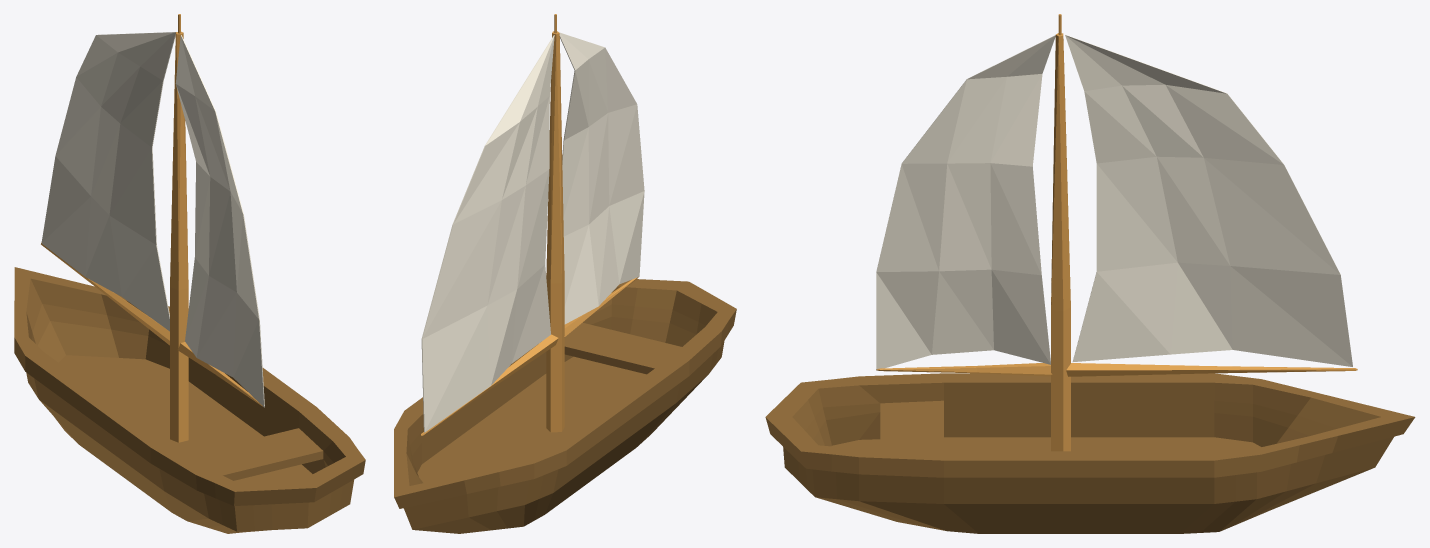
Rendered from LowPolyBoatModel.fbx.
3 renders of one model, left to right at view 1: azimuth 30°, elevation 25°; view 2: azimuth 150°, elevation 25°; view 3: azimuth 270°, elevation 25°, orthographic. The views are drawn at different scales.
Parts seen in each view (by area): view 1: Cube.001; view 2: Cube.001; view 3: Cube.001.
Part boxes in pixels (x1,y1,x2,y2): Cube.001: (14, 14, 365, 533); Cube.001: (394, 14, 736, 533); Cube.001: (765, 14, 1415, 533).
Bounding box in the file's own units: 227 × 617 × 716.
